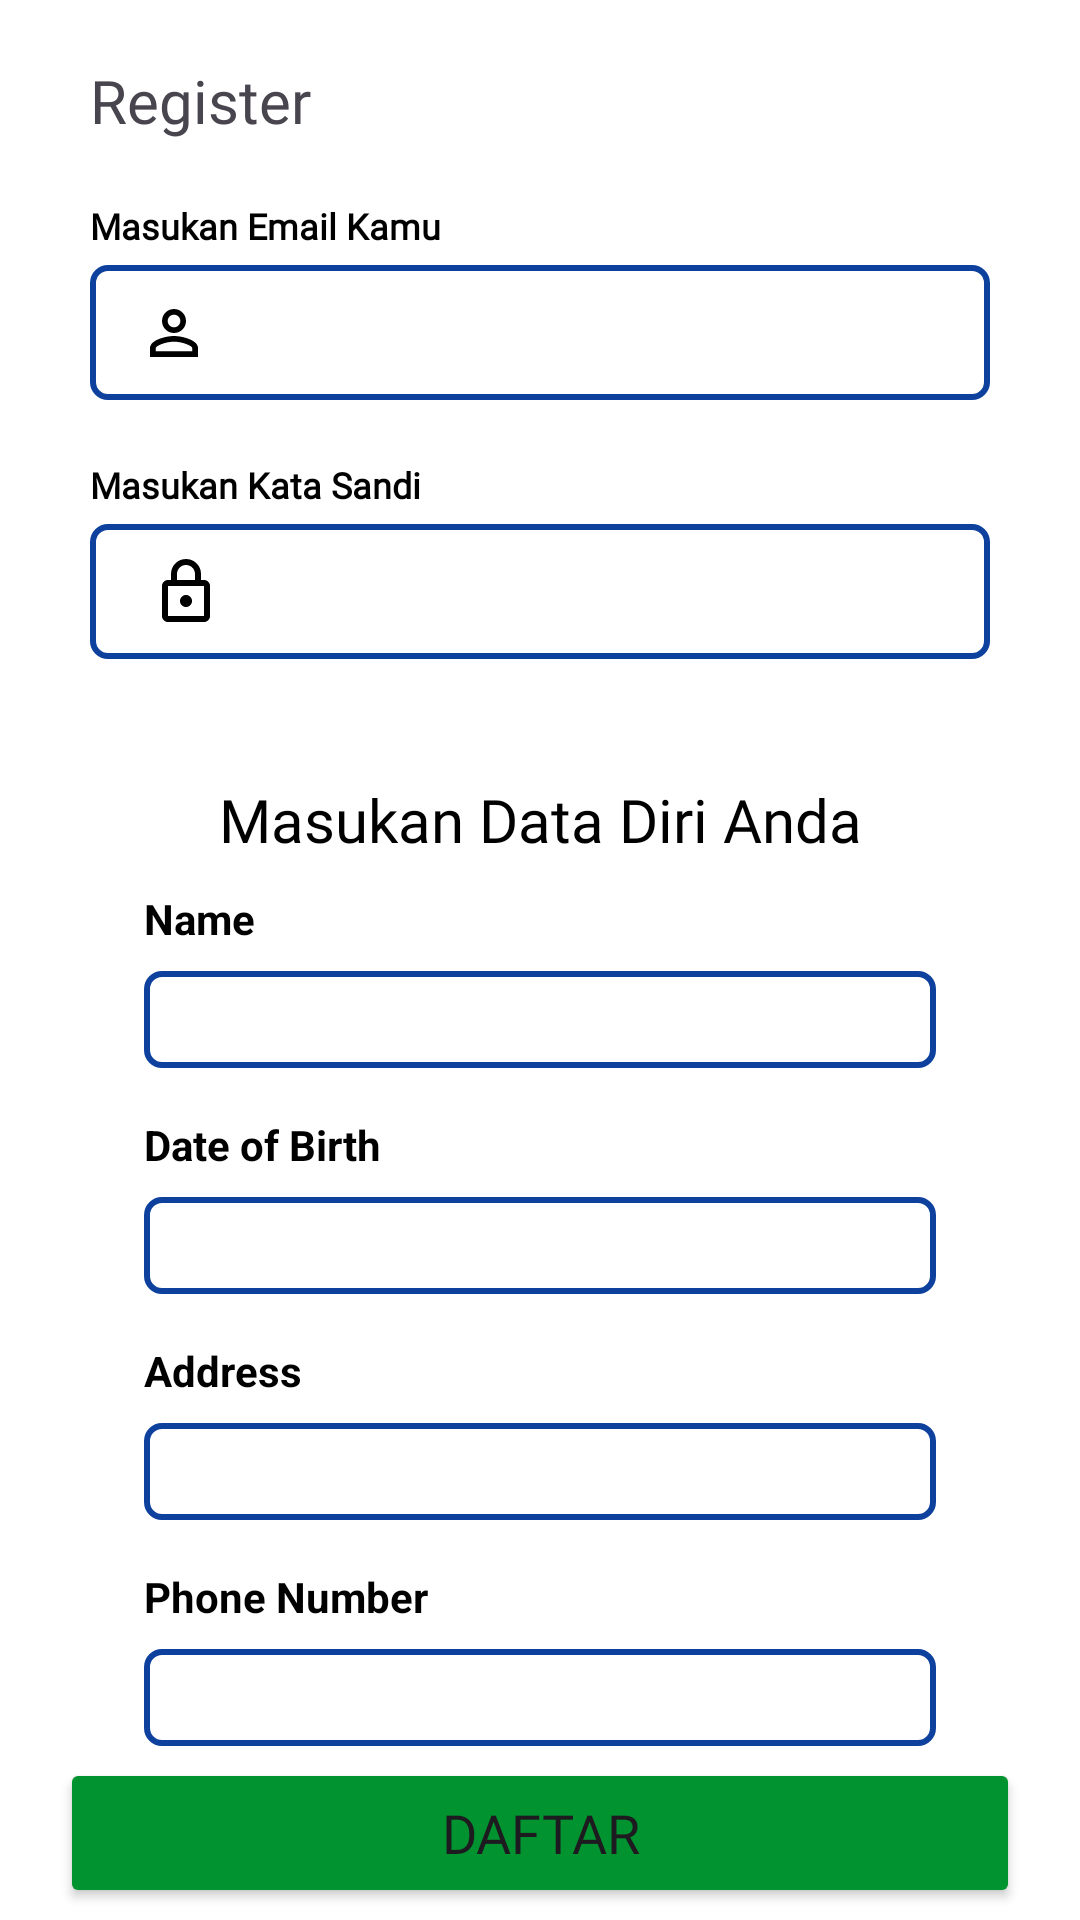

Icon bounding boxes for this 1080*1920 phone screenshot, format (x1,y1,x2,y2):
lock: (162,559,210,622)
user: (150,309,198,357)
